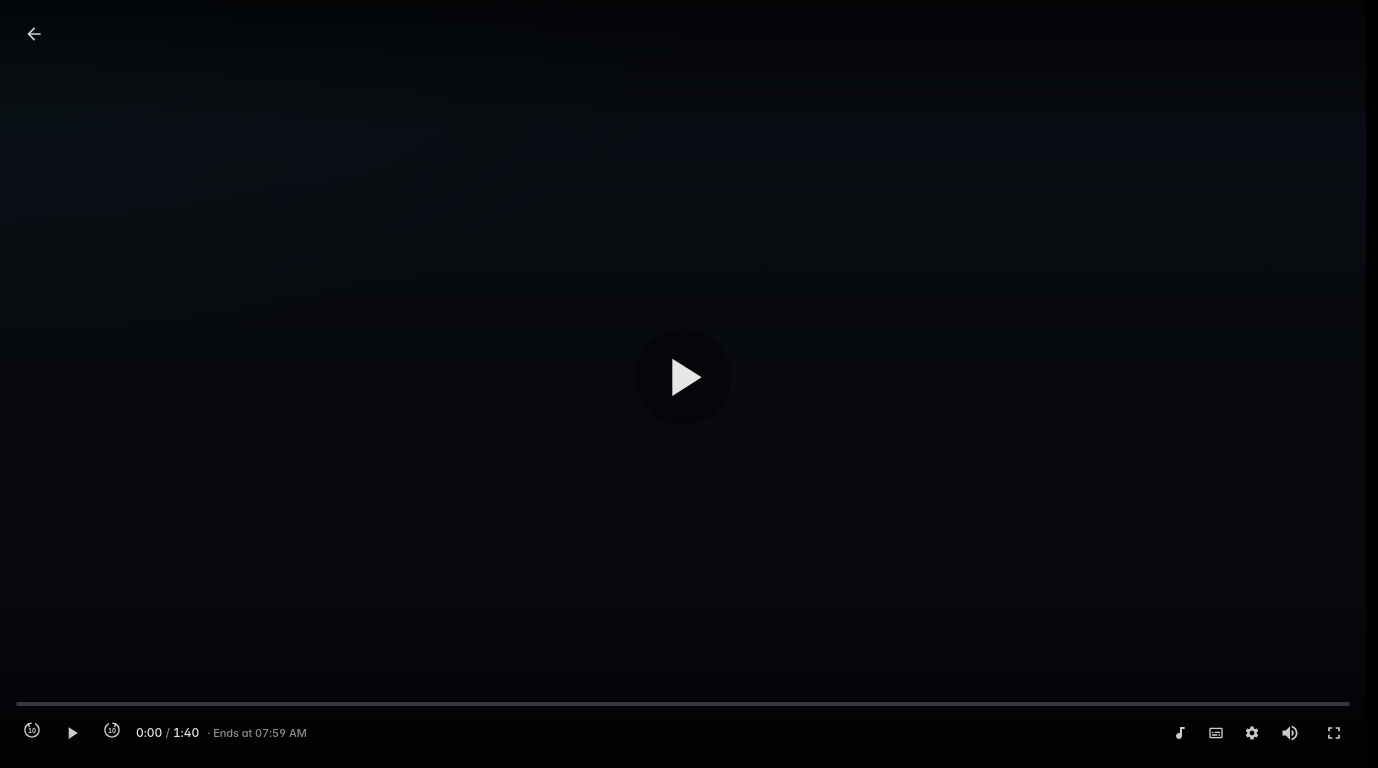
Test: PlayerControls — audio picker › falls back to the bare label when no DB stream matches the language
The width and height of the screenshot is (1378, 768).
What coordinates should you click on to do the following:
click the button named "audio"
I would click on:
 (1180, 733)
Its box is [1166,719,1194,747].
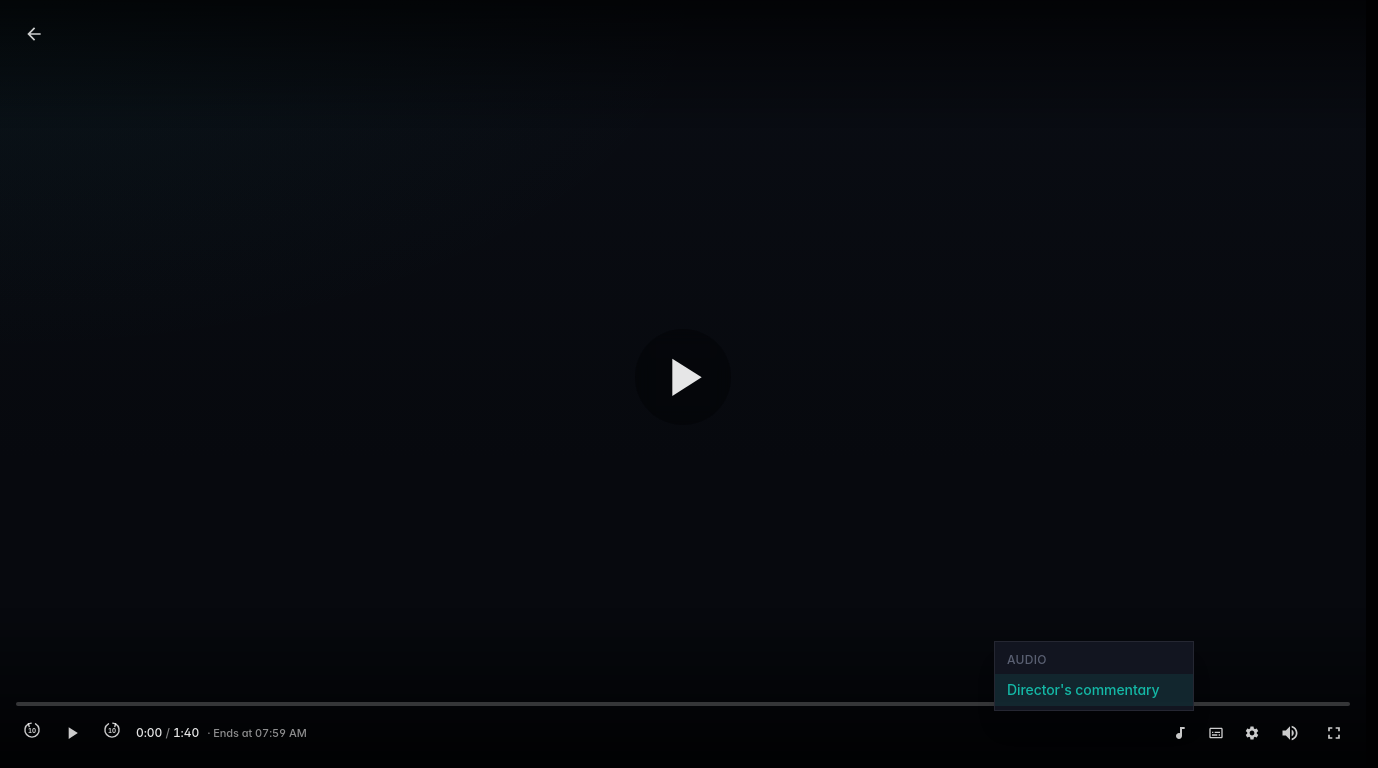
Expected: the text "Director's commentary" is shown, [1007,680,1181,700]
